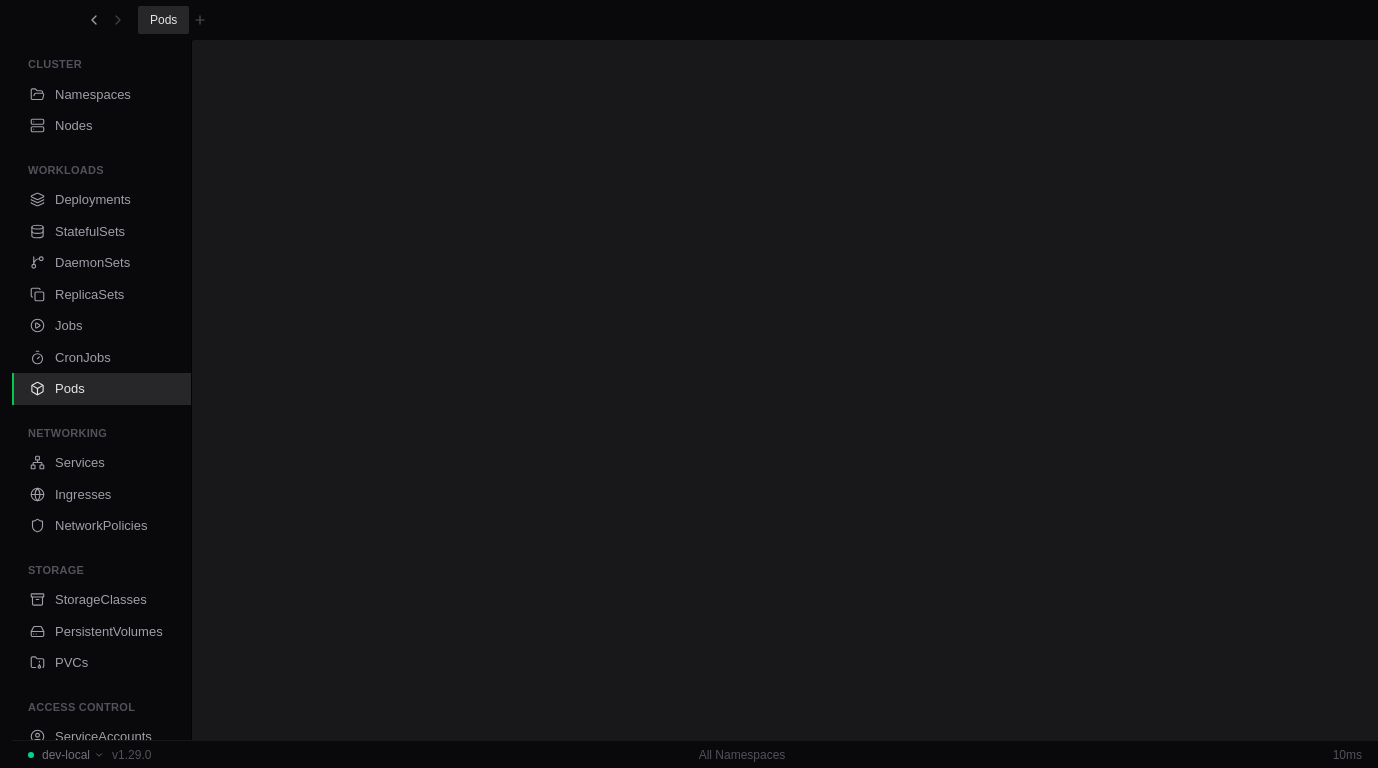
IngressDetailView › shows ingress detail when clicking an ingress
Click the button "Ingresses". click: (102, 494)
box: [12,478,191,510]
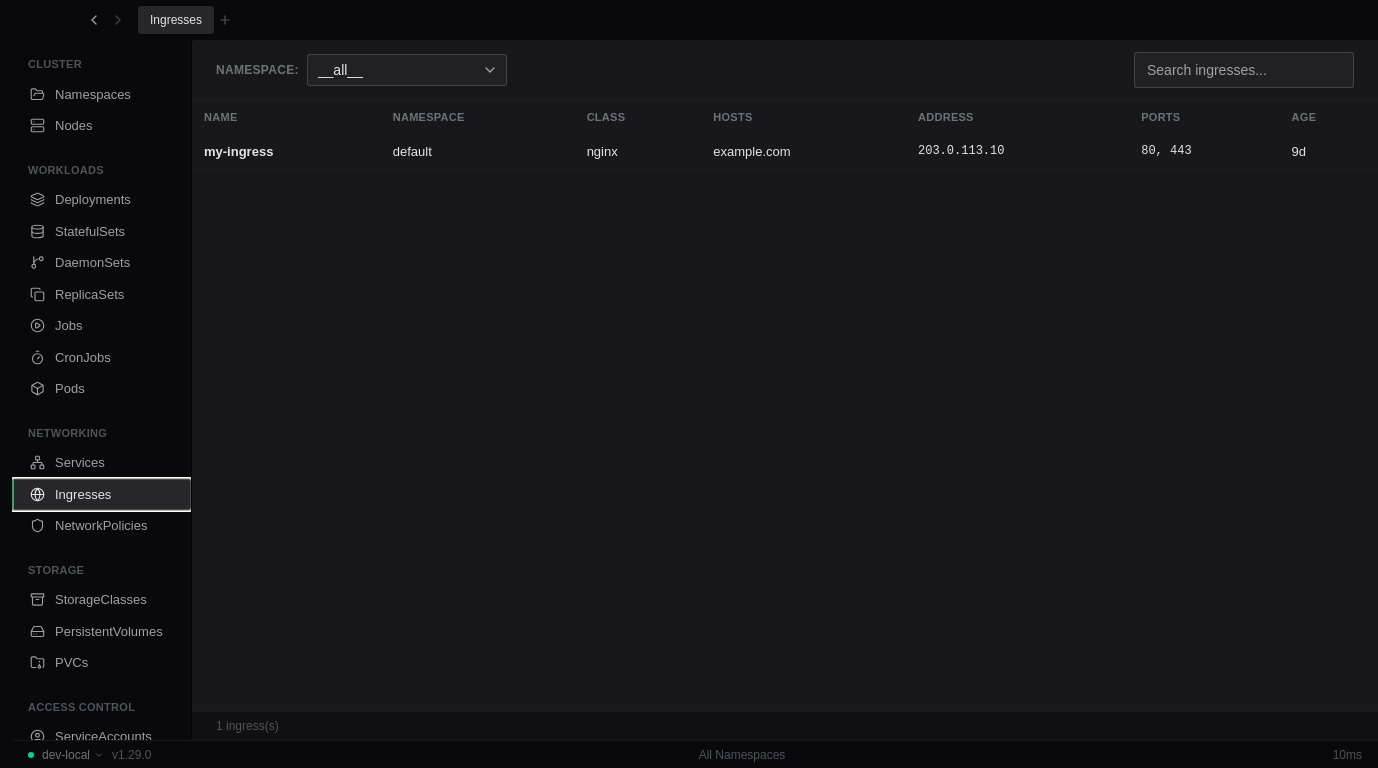
Expected: the text "my-ingress" is shown
Click the text "my-ingress". click: (286, 152)
box: [192,134,381,170]
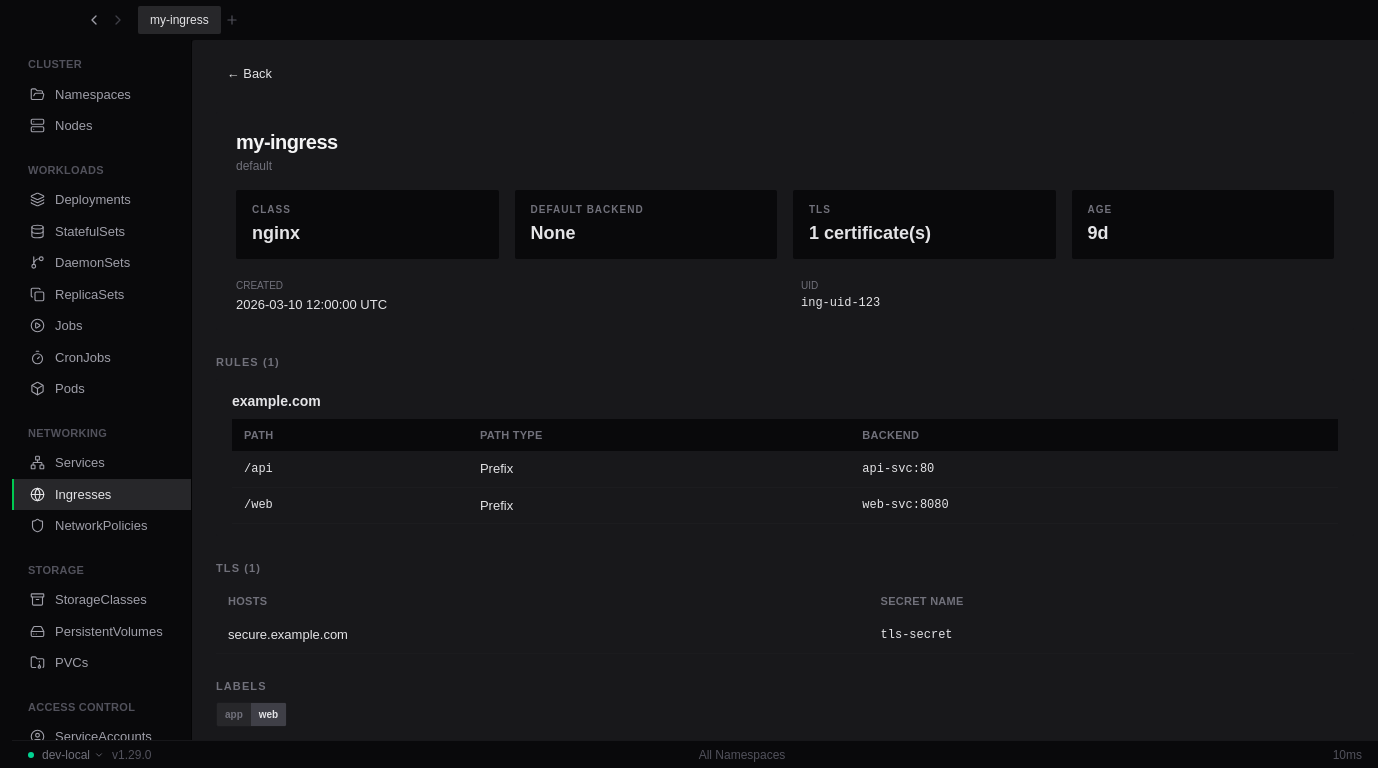
Expected: the text "Class" is shown, [252,204,291,215]
Expected: the text "Default Backend" is shown, [530,204,644,215]
